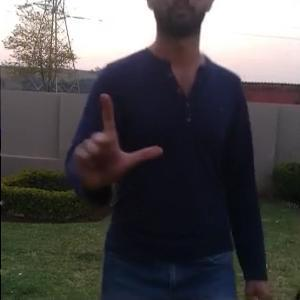land_hand: (71, 87, 163, 189)
